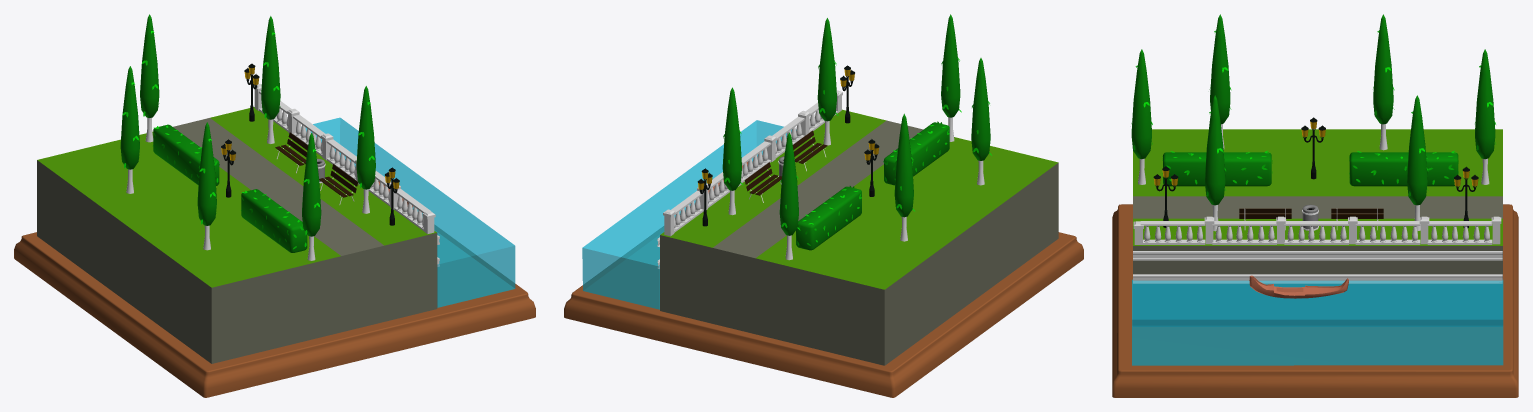
The model's file is Level1_2.FBX.
The picture shows the model from 3 angles, left to right: view 1: azimuth 30°, elevation 25°; view 2: azimuth 150°, elevation 25°; view 3: azimuth 270°, elevation 25°; orthographic projection. The views are drawn at different scales.
Parts seen in each view (by area): view 1: Box072, Container001, Box103, Box104, Cylinder100, Cylinder101, Cylinder104, Cylinder105, Cylinder102, Cylinder103; view 2: Box072, Container001, Box104, Box103, Cylinder104, Cylinder103, Cylinder105, Cylinder101, Cylinder100, Cylinder102; view 3: Container001, Box072, Box104, Box103, Cylinder105, Cylinder103, Cylinder100, Cylinder101, Cylinder102, Cylinder104, Plane434, Cylinder076 (+2 smaller).
Part boxes in pixels (x1,y1,x2,y2): Box072: [37, 107, 437, 363]; Container001: [14, 84, 535, 397]; Box103: [241, 189, 307, 252]; Box104: [153, 124, 219, 185]; Cylinder100: [261, 16, 280, 119]; Cylinder101: [356, 86, 375, 189]; Cylinder104: [197, 122, 216, 225]; Cylinder105: [120, 66, 139, 169]; Cylinder102: [140, 14, 159, 117]; Cylinder103: [302, 133, 321, 236]; Box072: [660, 109, 1058, 365]; Container001: [564, 90, 1083, 397]; Box104: [796, 186, 861, 250]; Box103: [884, 122, 949, 185]; Cylinder104: [971, 58, 990, 160]; Cylinder103: [941, 14, 960, 117]; Cylinder105: [894, 113, 913, 217]; Cylinder101: [817, 18, 836, 121]; Cylinder100: [722, 87, 741, 190]; Cylinder102: [779, 132, 798, 235]; Container001: [1112, 204, 1518, 397]; Box072: [1133, 129, 1502, 326]; Box104: [1349, 152, 1458, 186]; Box103: [1163, 152, 1271, 186]; Cylinder105: [1373, 14, 1393, 124]; Cylinder103: [1131, 49, 1151, 159]; Cylinder100: [1407, 95, 1427, 205]; Cylinder101: [1205, 95, 1225, 205]; Cylinder102: [1475, 49, 1495, 159]; Cylinder104: [1210, 14, 1230, 124]; Plane434: [1249, 275, 1348, 298]; Cylinder076: [1301, 117, 1325, 179].
Bounding box in the file's own units: 277 × 180 × 277.
